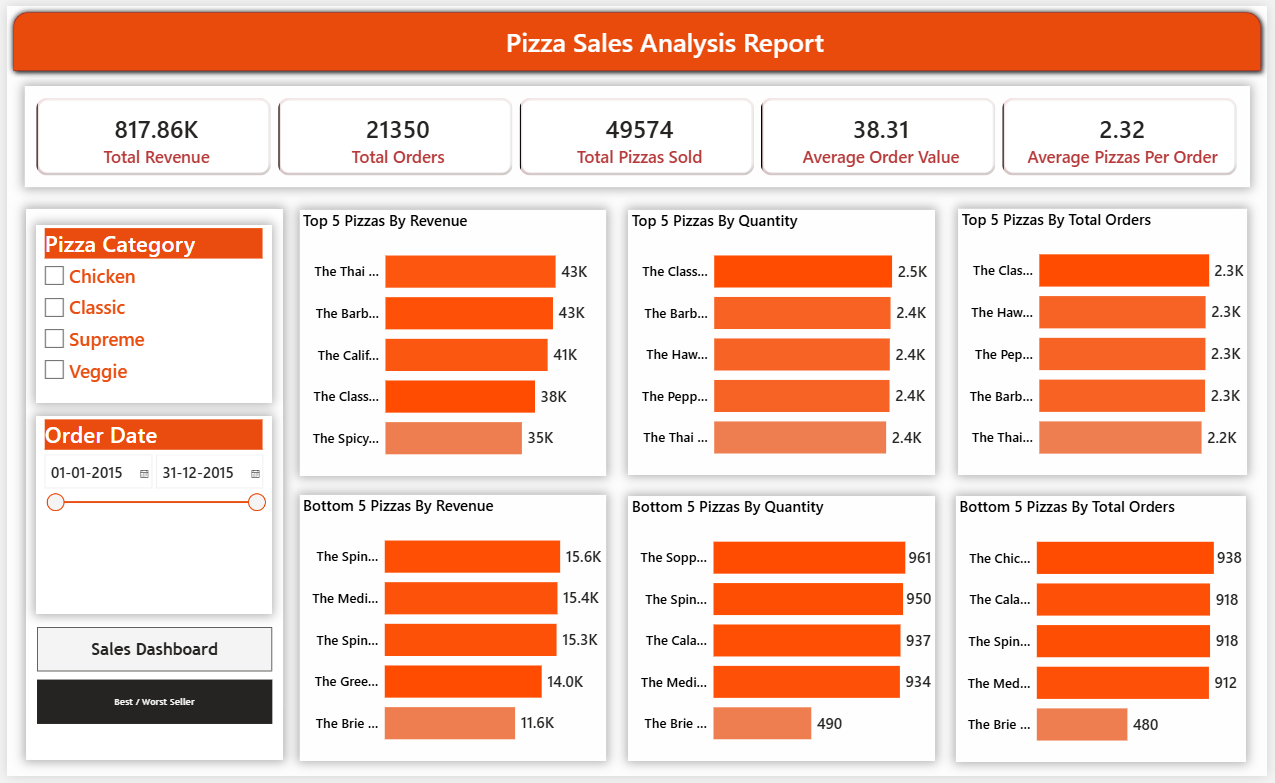

Layout of this report page (visuals, bound fields, positions):
{"tool":"powerbi","page":{"name":"Best / Worst Seller","canvas":[1800,1100],"ordinal":1},"visuals":[{"type":"shape","box":[0,0,1800,102],"z":0},{"type":"textbox","box":[703.8,21.8,472.5,60.3],"z":1000},{"type":"shape","box":[26,290,368,788],"z":2000},{"type":"barChart","title":"Top 5 Pizzas By Revenue","fields":{"Category":["pizza_sales.pizza_name"],"Y":["pizza_sales.Total Revenue"]},"box":[418,290.9,438.2,380],"z":3000},{"type":"barChart","title":"Top 5 Pizzas By Quantity","fields":{"Y":["pizza_sales.Total Pizzas Sold"],"Category":["pizza_sales.pizza_name"]},"box":[888,291.5,438.8,378.8],"z":4000},{"type":"barChart","title":"Top 5 Pizzas By Total Orders","fields":{"Y":["pizza_sales.Total Orders"],"Category":["pizza_sales.pizza_name"]},"box":[1358.9,290,412.7,380.9],"z":5000},{"type":"barChart","title":"Bottom 5 Pizzas By Revenue","fields":{"Category":["pizza_sales.pizza_name"],"Y":["pizza_sales.Total Revenue"]},"box":[418,698,438,380],"z":6000},{"type":"barChart","title":"Bottom 5 Pizzas By Quantity","fields":{"Y":["pizza_sales.Total Pizzas Sold"],"Category":["pizza_sales.pizza_name"]},"box":[888,700,438,378],"z":7000},{"type":"barChart","title":"Bottom 5 Pizzas By Total Orders","fields":{"Y":["pizza_sales.Total Orders"],"Category":["pizza_sales.pizza_name"]},"box":[1356,700,414,380],"z":8000},{"type":"pageNavigator","box":[42.1,963.2,336.8,63.2],"z":9000},{"type":"pageNavigator","box":[42.1,887.7,336.8,63.2],"z":10000},{"type":"slicer","fields":{"Values":["pizza_sales.pizza_category"]},"box":[41.4,312.9,337.1,254.3],"z":11000},{"type":"slicer","fields":{"Values":["pizza_sales.order_date"]},"box":[41.4,585.7,337.1,282.9],"z":12000},{"type":"cardVisual","fields":{"Data":["pizza_sales.Total Revenue","pizza_sales.Total Orders","pizza_sales.Total Pizzas Sold","pizza_sales.Average Order Value","pizza_sales.Average Pizzas Per Order"]},"box":[25,115,1750,145],"z":13000}]}

Visuals, with their boxes in screenshot pixels (x1, y1, x2, y2), scaled from the page's 1800x1100 canvas onto the 1275x783 screenshot:
shape: <bbox>0, 0, 1274, 73</bbox>
textbox: <bbox>499, 16, 833, 58</bbox>
shape: <bbox>18, 206, 279, 767</bbox>
"Top 5 Pizzas By Revenue" barChart: <bbox>296, 207, 606, 478</bbox>
"Top 5 Pizzas By Quantity" barChart: <bbox>629, 207, 940, 477</bbox>
"Top 5 Pizzas By Total Orders" barChart: <bbox>963, 206, 1255, 478</bbox>
"Bottom 5 Pizzas By Revenue" barChart: <bbox>296, 497, 606, 767</bbox>
"Bottom 5 Pizzas By Quantity" barChart: <bbox>629, 498, 939, 767</bbox>
"Bottom 5 Pizzas By Total Orders" barChart: <bbox>960, 498, 1254, 769</bbox>
pageNavigator: <bbox>30, 686, 268, 731</bbox>
pageNavigator: <bbox>30, 632, 268, 677</bbox>
slicer - pizza_sales.pizza_category: <bbox>29, 223, 268, 404</bbox>
slicer - pizza_sales.order_date: <bbox>29, 417, 268, 618</bbox>
cardVisual - pizza_sales.Total Revenue x pizza_sales.Total Orders: <bbox>18, 82, 1257, 185</bbox>
